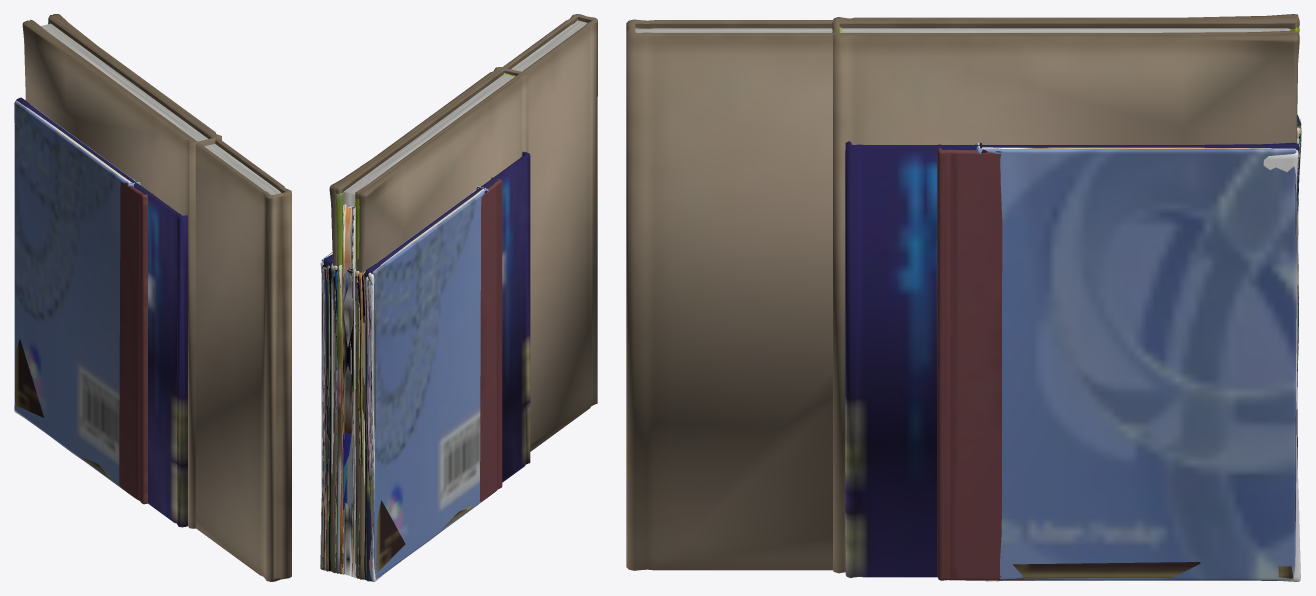
File: books.glb
3 views of the same model, side by side, from view 1: azimuth 30°, elevation 25°; view 2: azimuth 150°, elevation 25°; view 3: azimuth 270°, elevation 25° (orthographic). The views are drawn at different scales.
Parts seen in each view (by area): view 1: book_002, book_001, book_053, book_058, book_007, book_082; view 2: book_002, book_001, book_053, book_058, book_007, book_042, book_051, book_082, book_009, book_048, book_083, book_062 (+24 smaller); view 3: book_001, book_002, book_053, book_058, book_007, book_082, book_062.
Part boxes in pixels (bbox=[...]): book_002: bbox=[29, 15, 291, 581]; book_001: bbox=[14, 101, 140, 487]; book_053: bbox=[22, 14, 221, 528]; book_058: bbox=[16, 97, 187, 527]; book_007: bbox=[119, 182, 154, 504]; book_082: bbox=[15, 181, 138, 478]; book_002: bbox=[335, 14, 597, 578]; book_001: bbox=[321, 186, 488, 578]; book_053: bbox=[329, 67, 528, 579]; book_058: bbox=[323, 151, 530, 581]; book_007: bbox=[480, 177, 502, 502]; book_042: bbox=[335, 73, 515, 577]; book_051: bbox=[343, 204, 354, 576]; book_082: bbox=[374, 187, 487, 572]; book_009: bbox=[340, 266, 354, 574]; book_048: bbox=[342, 204, 354, 566]; book_083: bbox=[328, 267, 366, 579]; book_062: bbox=[320, 189, 476, 581]; book_001: bbox=[975, 142, 1296, 580]; book_002: bbox=[626, 17, 1299, 570]; book_053: bbox=[832, 14, 1299, 573]; book_058: bbox=[845, 115, 1299, 580]; book_007: bbox=[937, 144, 1002, 580]; book_082: bbox=[979, 143, 1295, 580]; book_062: bbox=[986, 152, 1300, 581].
Bounding box in the file's own units: 0.0422 × 0.2852 × 0.3221.
Materials: 1 (1 with a texture image).
